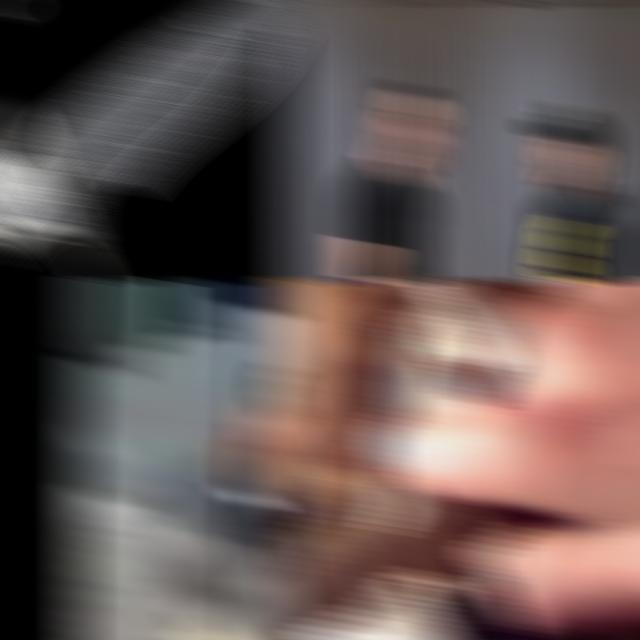Knife: (0, 0, 298, 282)
Knife_Handle: (278, 280, 640, 640), (406, 266, 463, 282), (230, 490, 274, 510)
